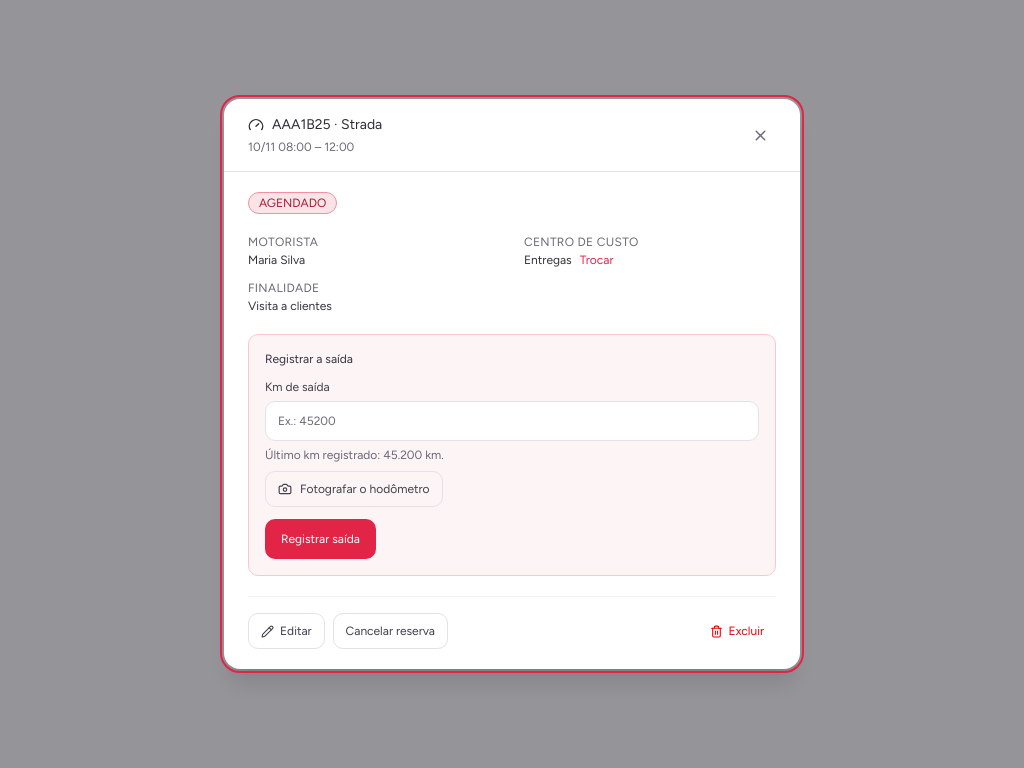
Test: UsoDetalheModal › mostra a recusa do servidor (hodômetro menor que o último km)
Step 1. Type "9000" into the field labelled "Km de saída" → point(512, 421), box [265,401,759,441]
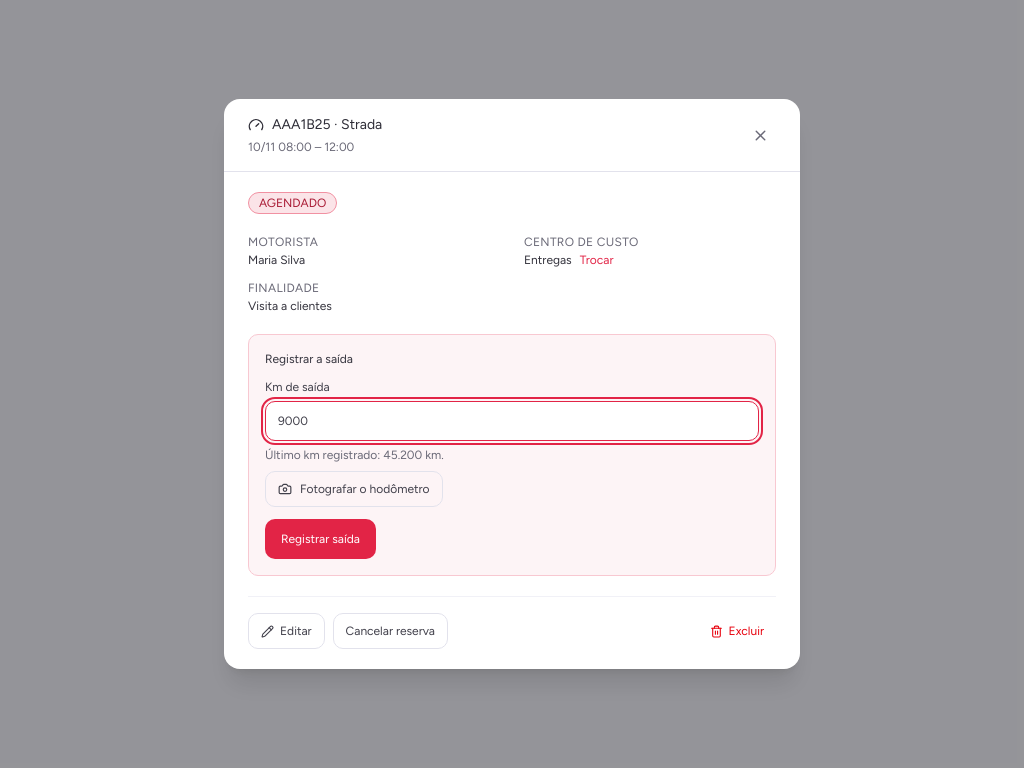
Step 2. Click the button "Registrar saída" → point(320, 539), box [265,519,376,559]
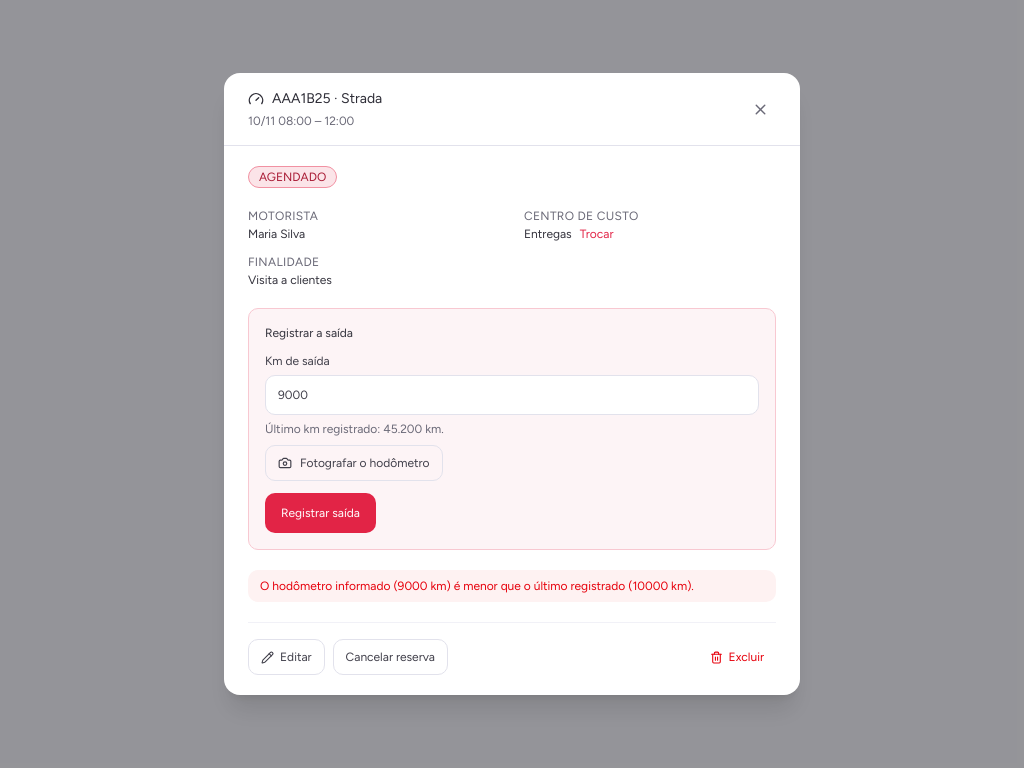
Expected: the message shows "menor que o último registrado (10000 km)", [260,579,694,593]
